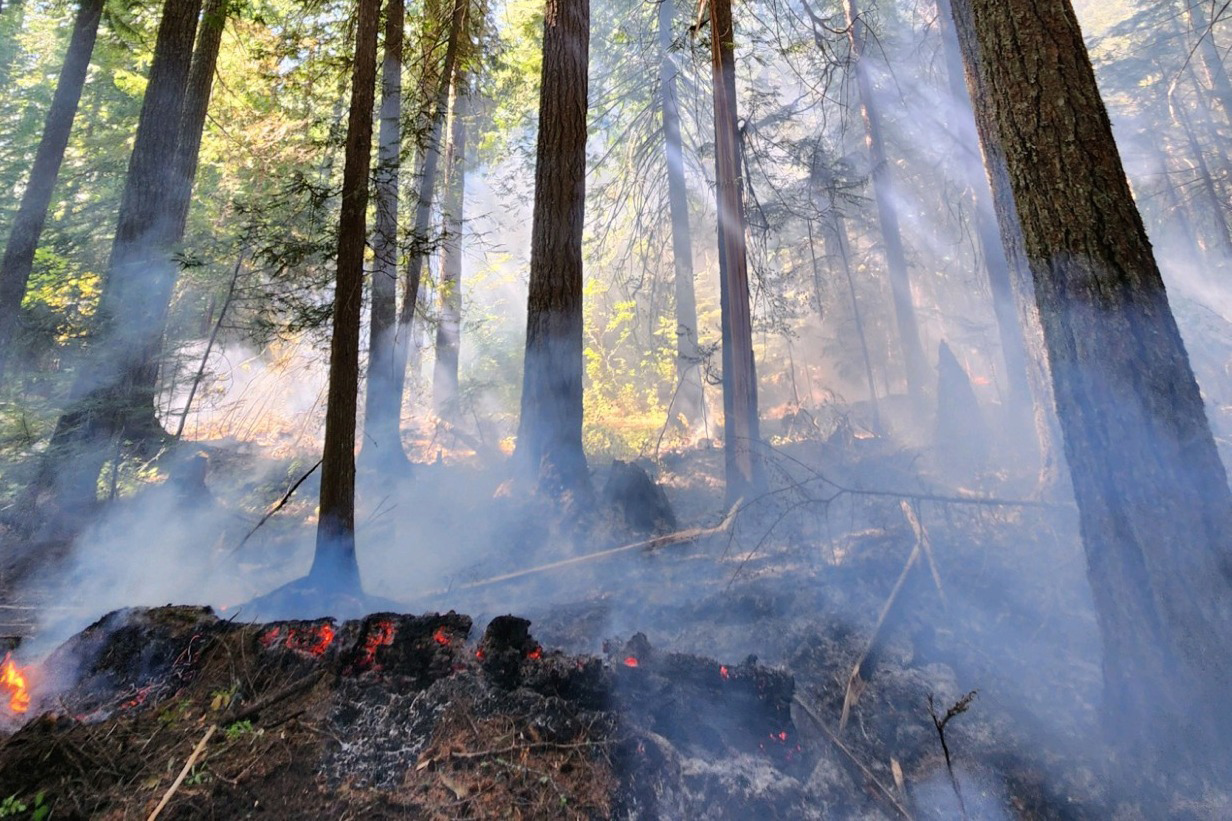fire: (68, 535, 866, 771), (3, 593, 56, 733)
